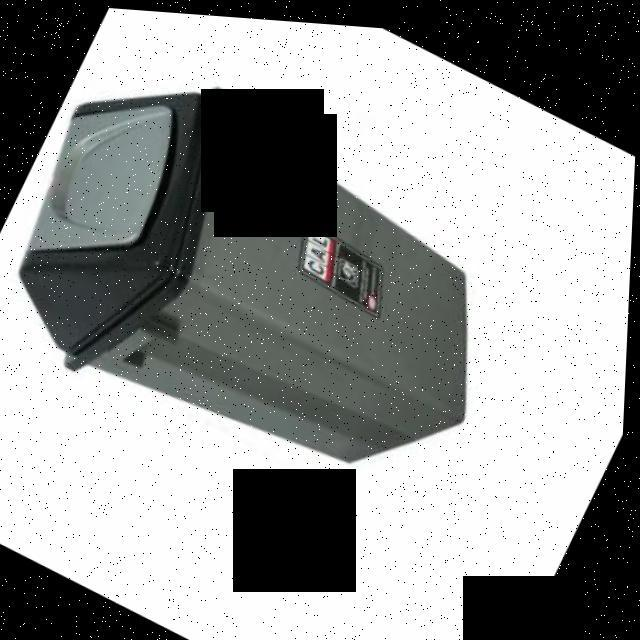bin: (0, 10, 575, 551)
